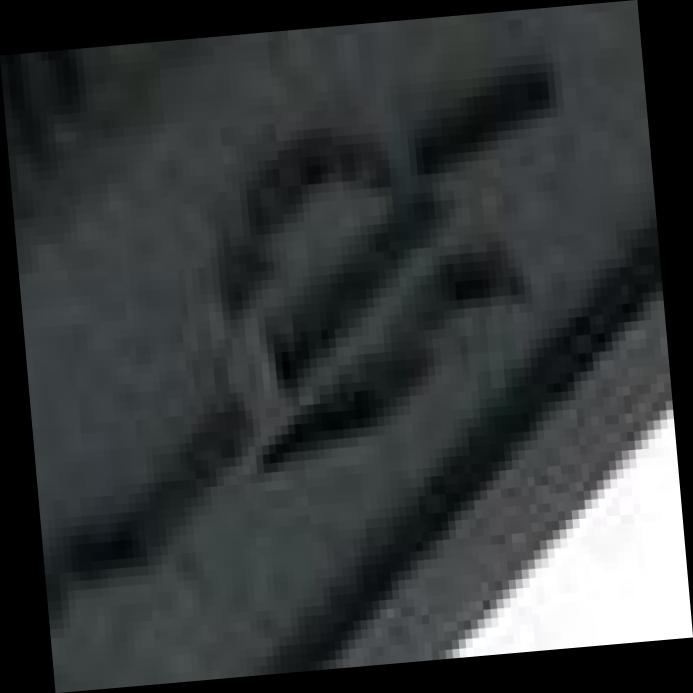usb: (7, 0, 693, 692)
